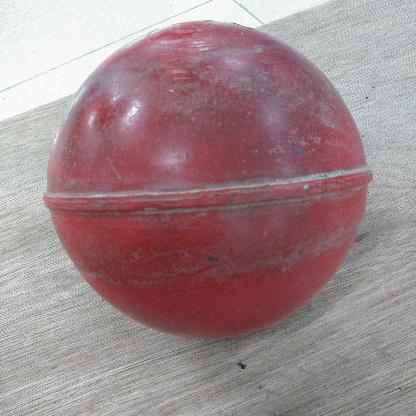red_buoy: (47, 19, 373, 340)
